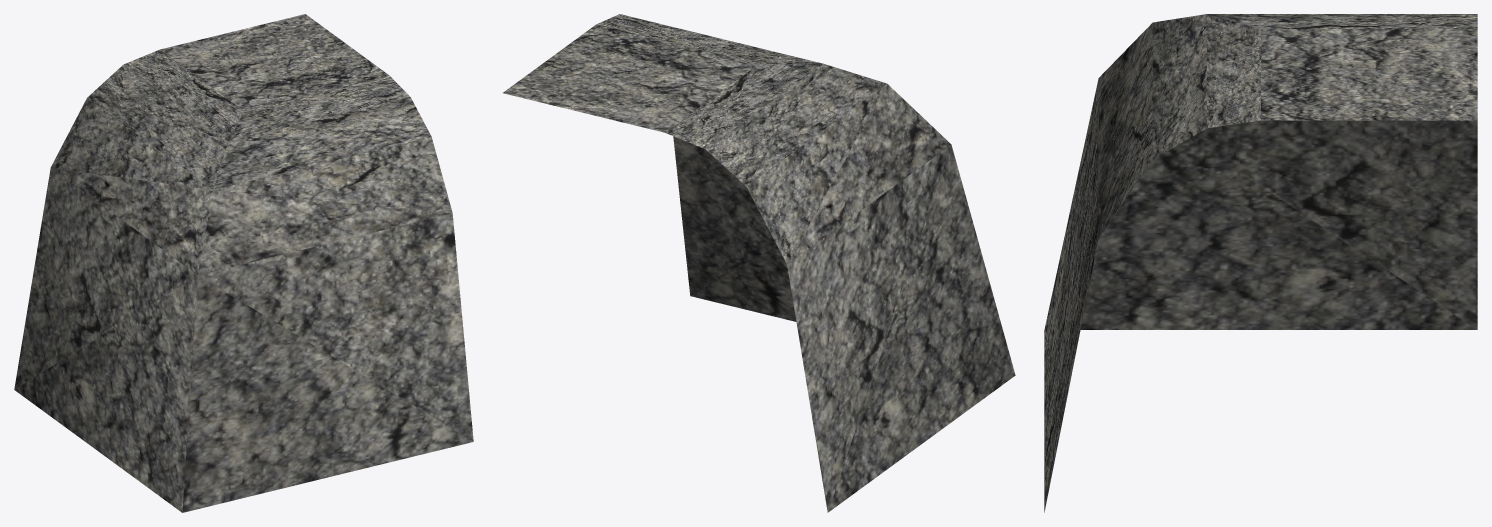
Rendered from Stone2c.obj.
3 views of the same model, side by side, from view 1: azimuth 30°, elevation 25°; view 2: azimuth 150°, elevation 25°; view 3: azimuth 270°, elevation 25° (orthographic). The views are drawn at different scales.
Parts seen in each view (by area): view 1: Grid_Grid.021_Grid_Grid.040; view 2: Grid_Grid.021_Grid_Grid.040; view 3: Grid_Grid.021_Grid_Grid.040.
Part boxes in pixels (x1,y1,x2,y2): Grid_Grid.021_Grid_Grid.040: [14, 14, 473, 512]; Grid_Grid.021_Grid_Grid.040: [503, 14, 1015, 512]; Grid_Grid.021_Grid_Grid.040: [1044, 14, 1477, 512].
Size of the model in its own units: 1 by 1 by 1.
Materials: 1 (1 with a texture image).
